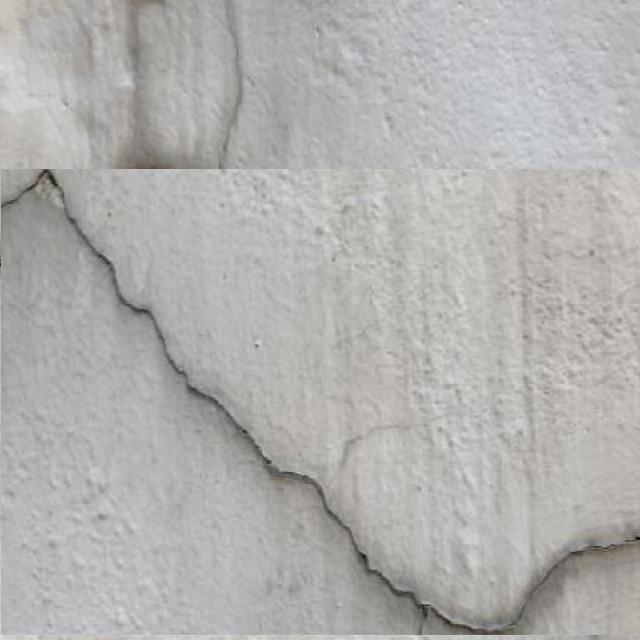Crack: (0, 164, 639, 633)
